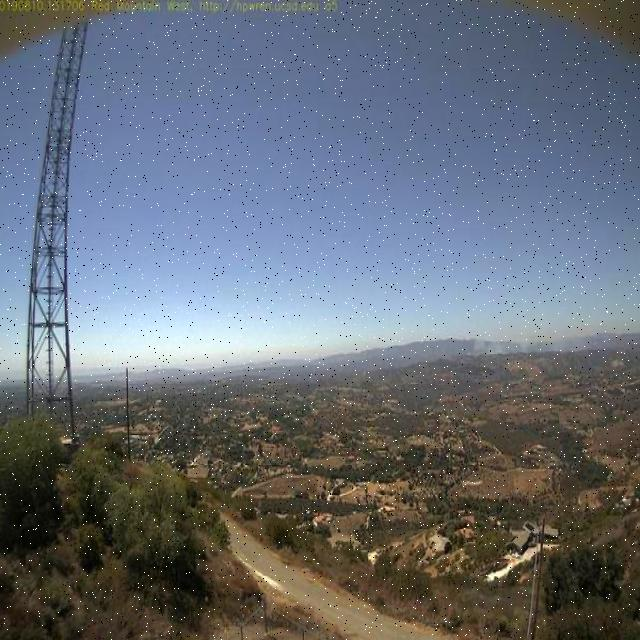smoke: (461, 320, 595, 362)
